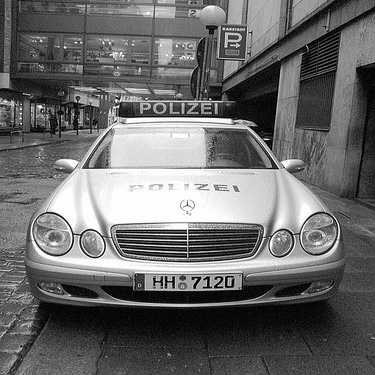car: (19, 83, 346, 321)
